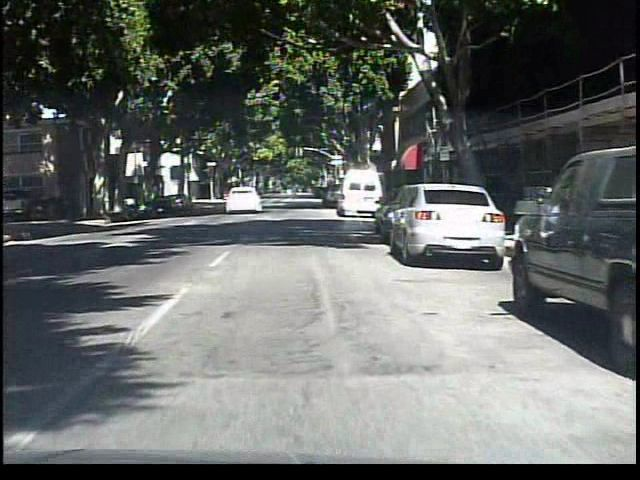person: (288, 174, 304, 205)
